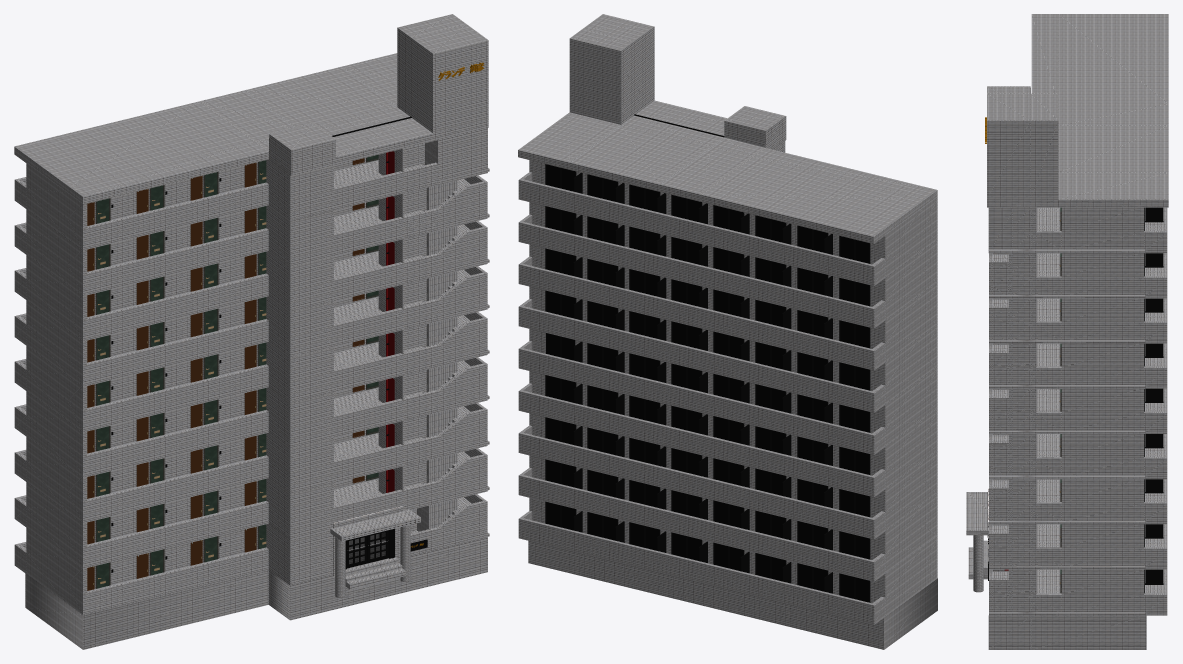
Rendered from __apartment_ikeda_001_high.fbx.
3 views of the same model, side by side, from view 1: azimuth 30°, elevation 25°; view 2: azimuth 150°, elevation 25°; view 3: azimuth 270°, elevation 25° (orthographic). The views are drawn at different scales.
Visible parts, largest first — view 1: apart_ikeda_001__high; view 2: apart_ikeda_001__high; view 3: apart_ikeda_001__high.
Boxes of the visible parts, x1=… form: apart_ikeda_001__high: x1=14, y1=14, x2=489, y2=649; apart_ikeda_001__high: x1=518, y1=14, x2=937, y2=649; apart_ikeda_001__high: x1=966, y1=14, x2=1168, y2=649.
Size of the model in its own units: 4.5 by 5.95 by 2.06.
